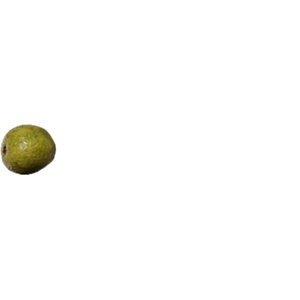goiaba: (2, 120, 55, 180)
